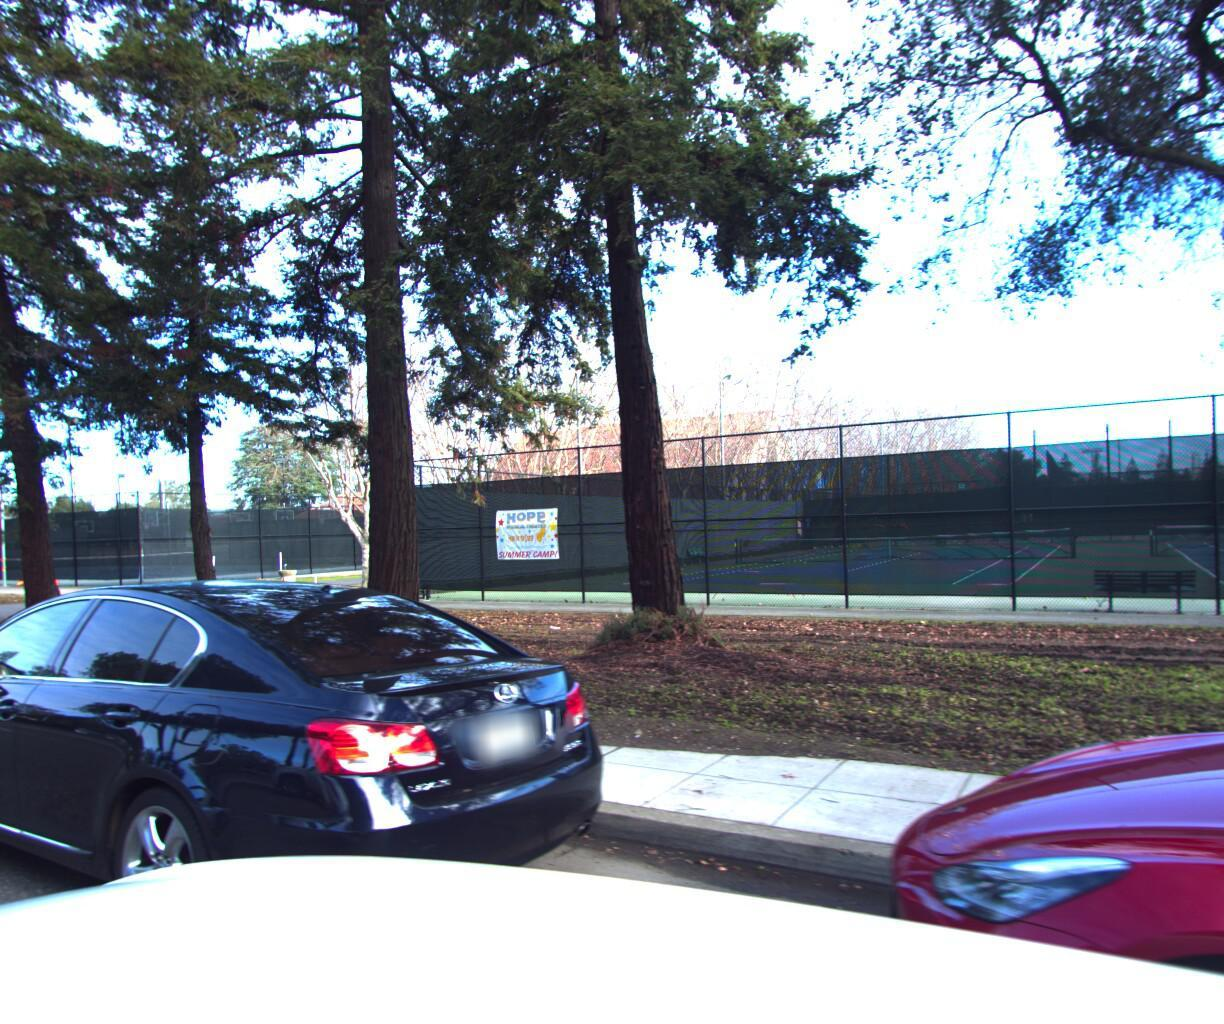car: (0, 551, 665, 1024)
